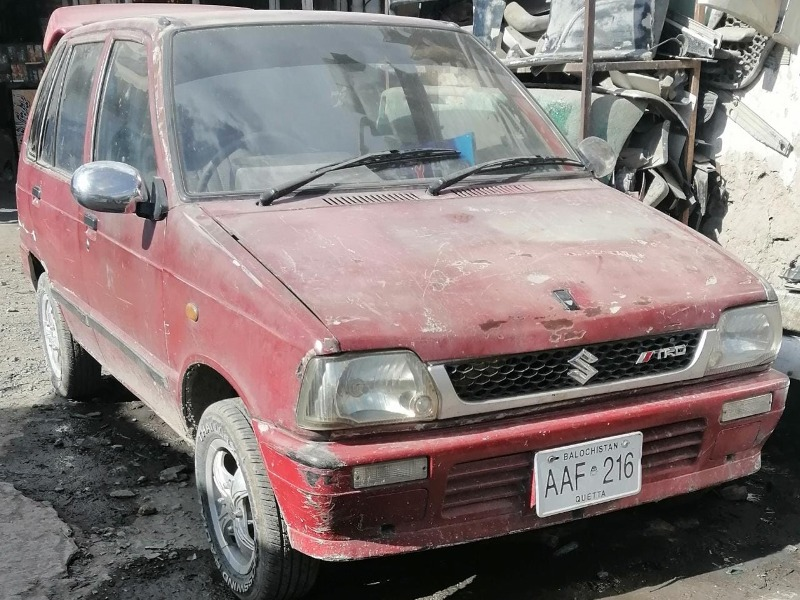License Plate: (527, 431, 647, 523)
